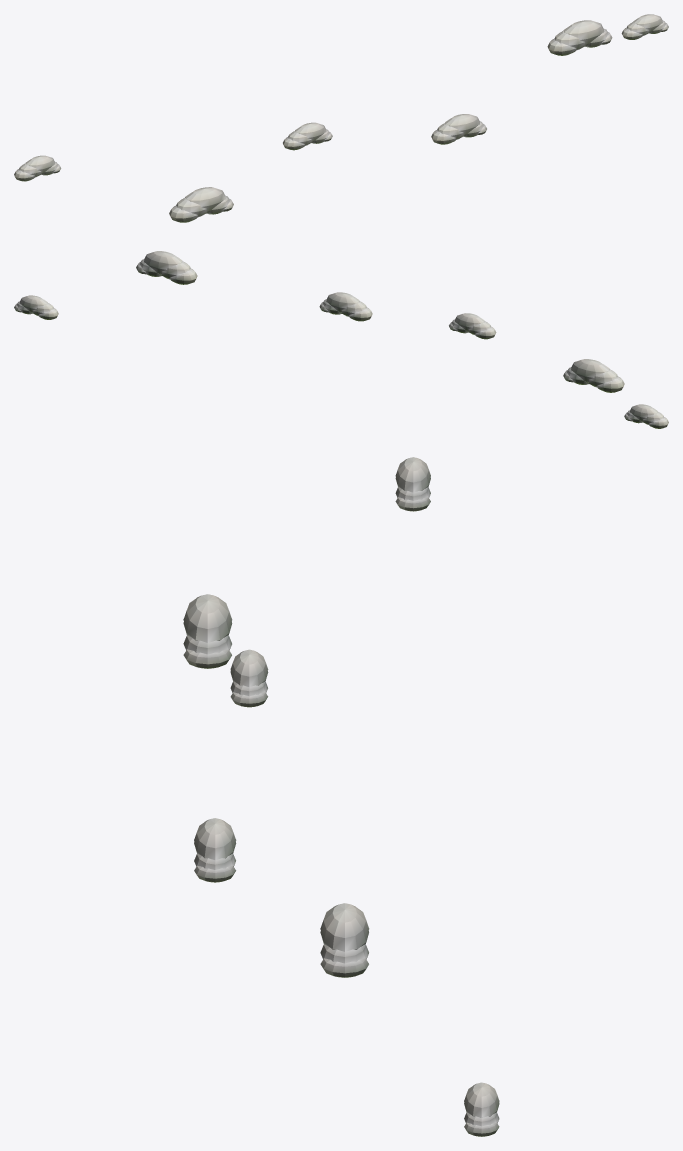
The model's file is clouds.glb.
3 renders of one model, top to bottom at view 1: azimuth 30°, elevation 25°; view 2: azimuth 150°, elevation 25°; view 3: azimuth 270°, elevation 25°, orthographic. The views are drawn at different scales.
Parts seen in each view (by area): view 1: V | 云; view 2: V | 云; view 3: V | 云.
Boxes of the visible parts, x1=… form: V | 云: x1=14, y1=14, x2=668, y2=222; V | 云: x1=14, y1=251, x2=668, y2=428; V | 云: x1=183, y1=457, x2=499, y2=1136.
Size of the model in its own units: 42.88 by 4.08 by 9.23.
